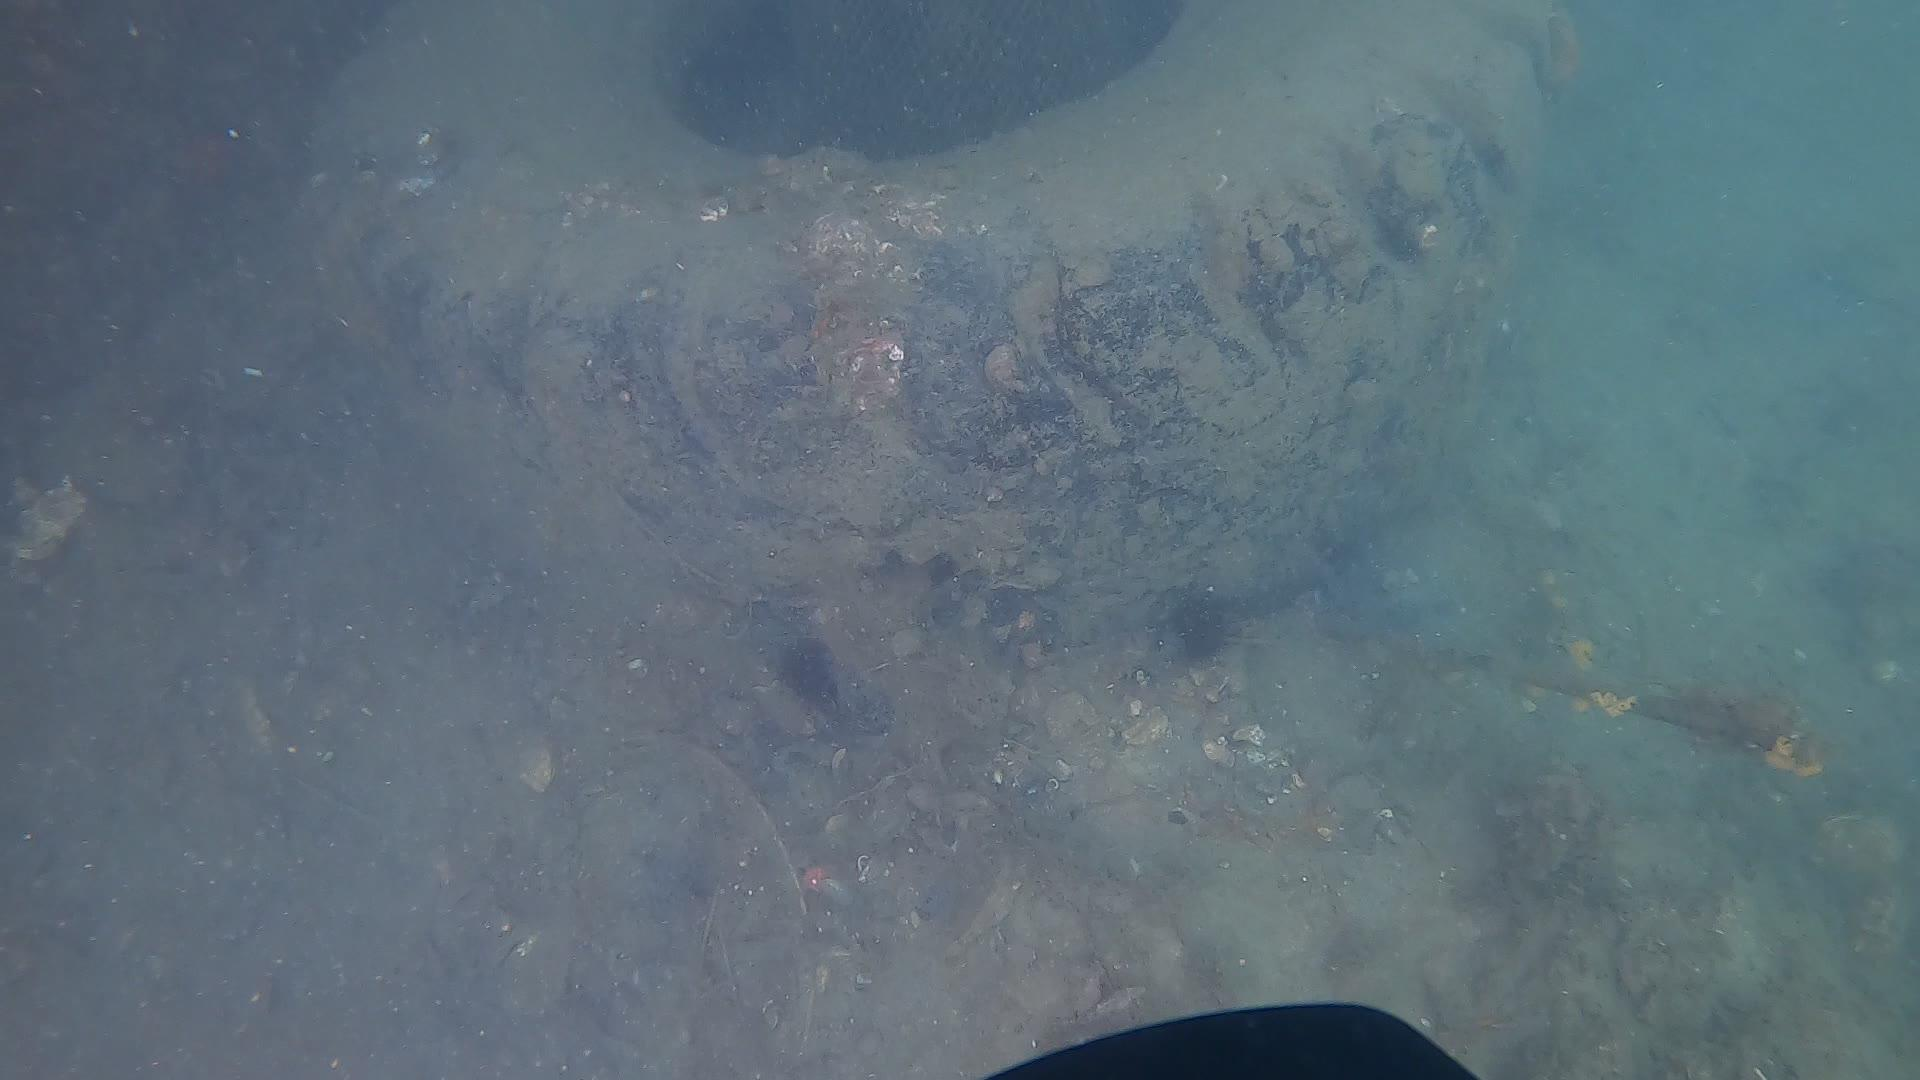tire: (306, 0, 1578, 663)
